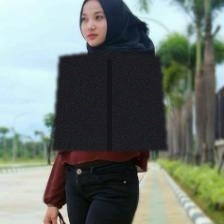Cadar_Niqab: (52, 0, 167, 150)
